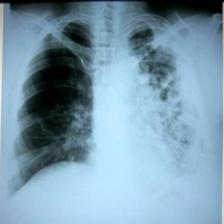tuberculosis: (9, 11, 205, 198)
